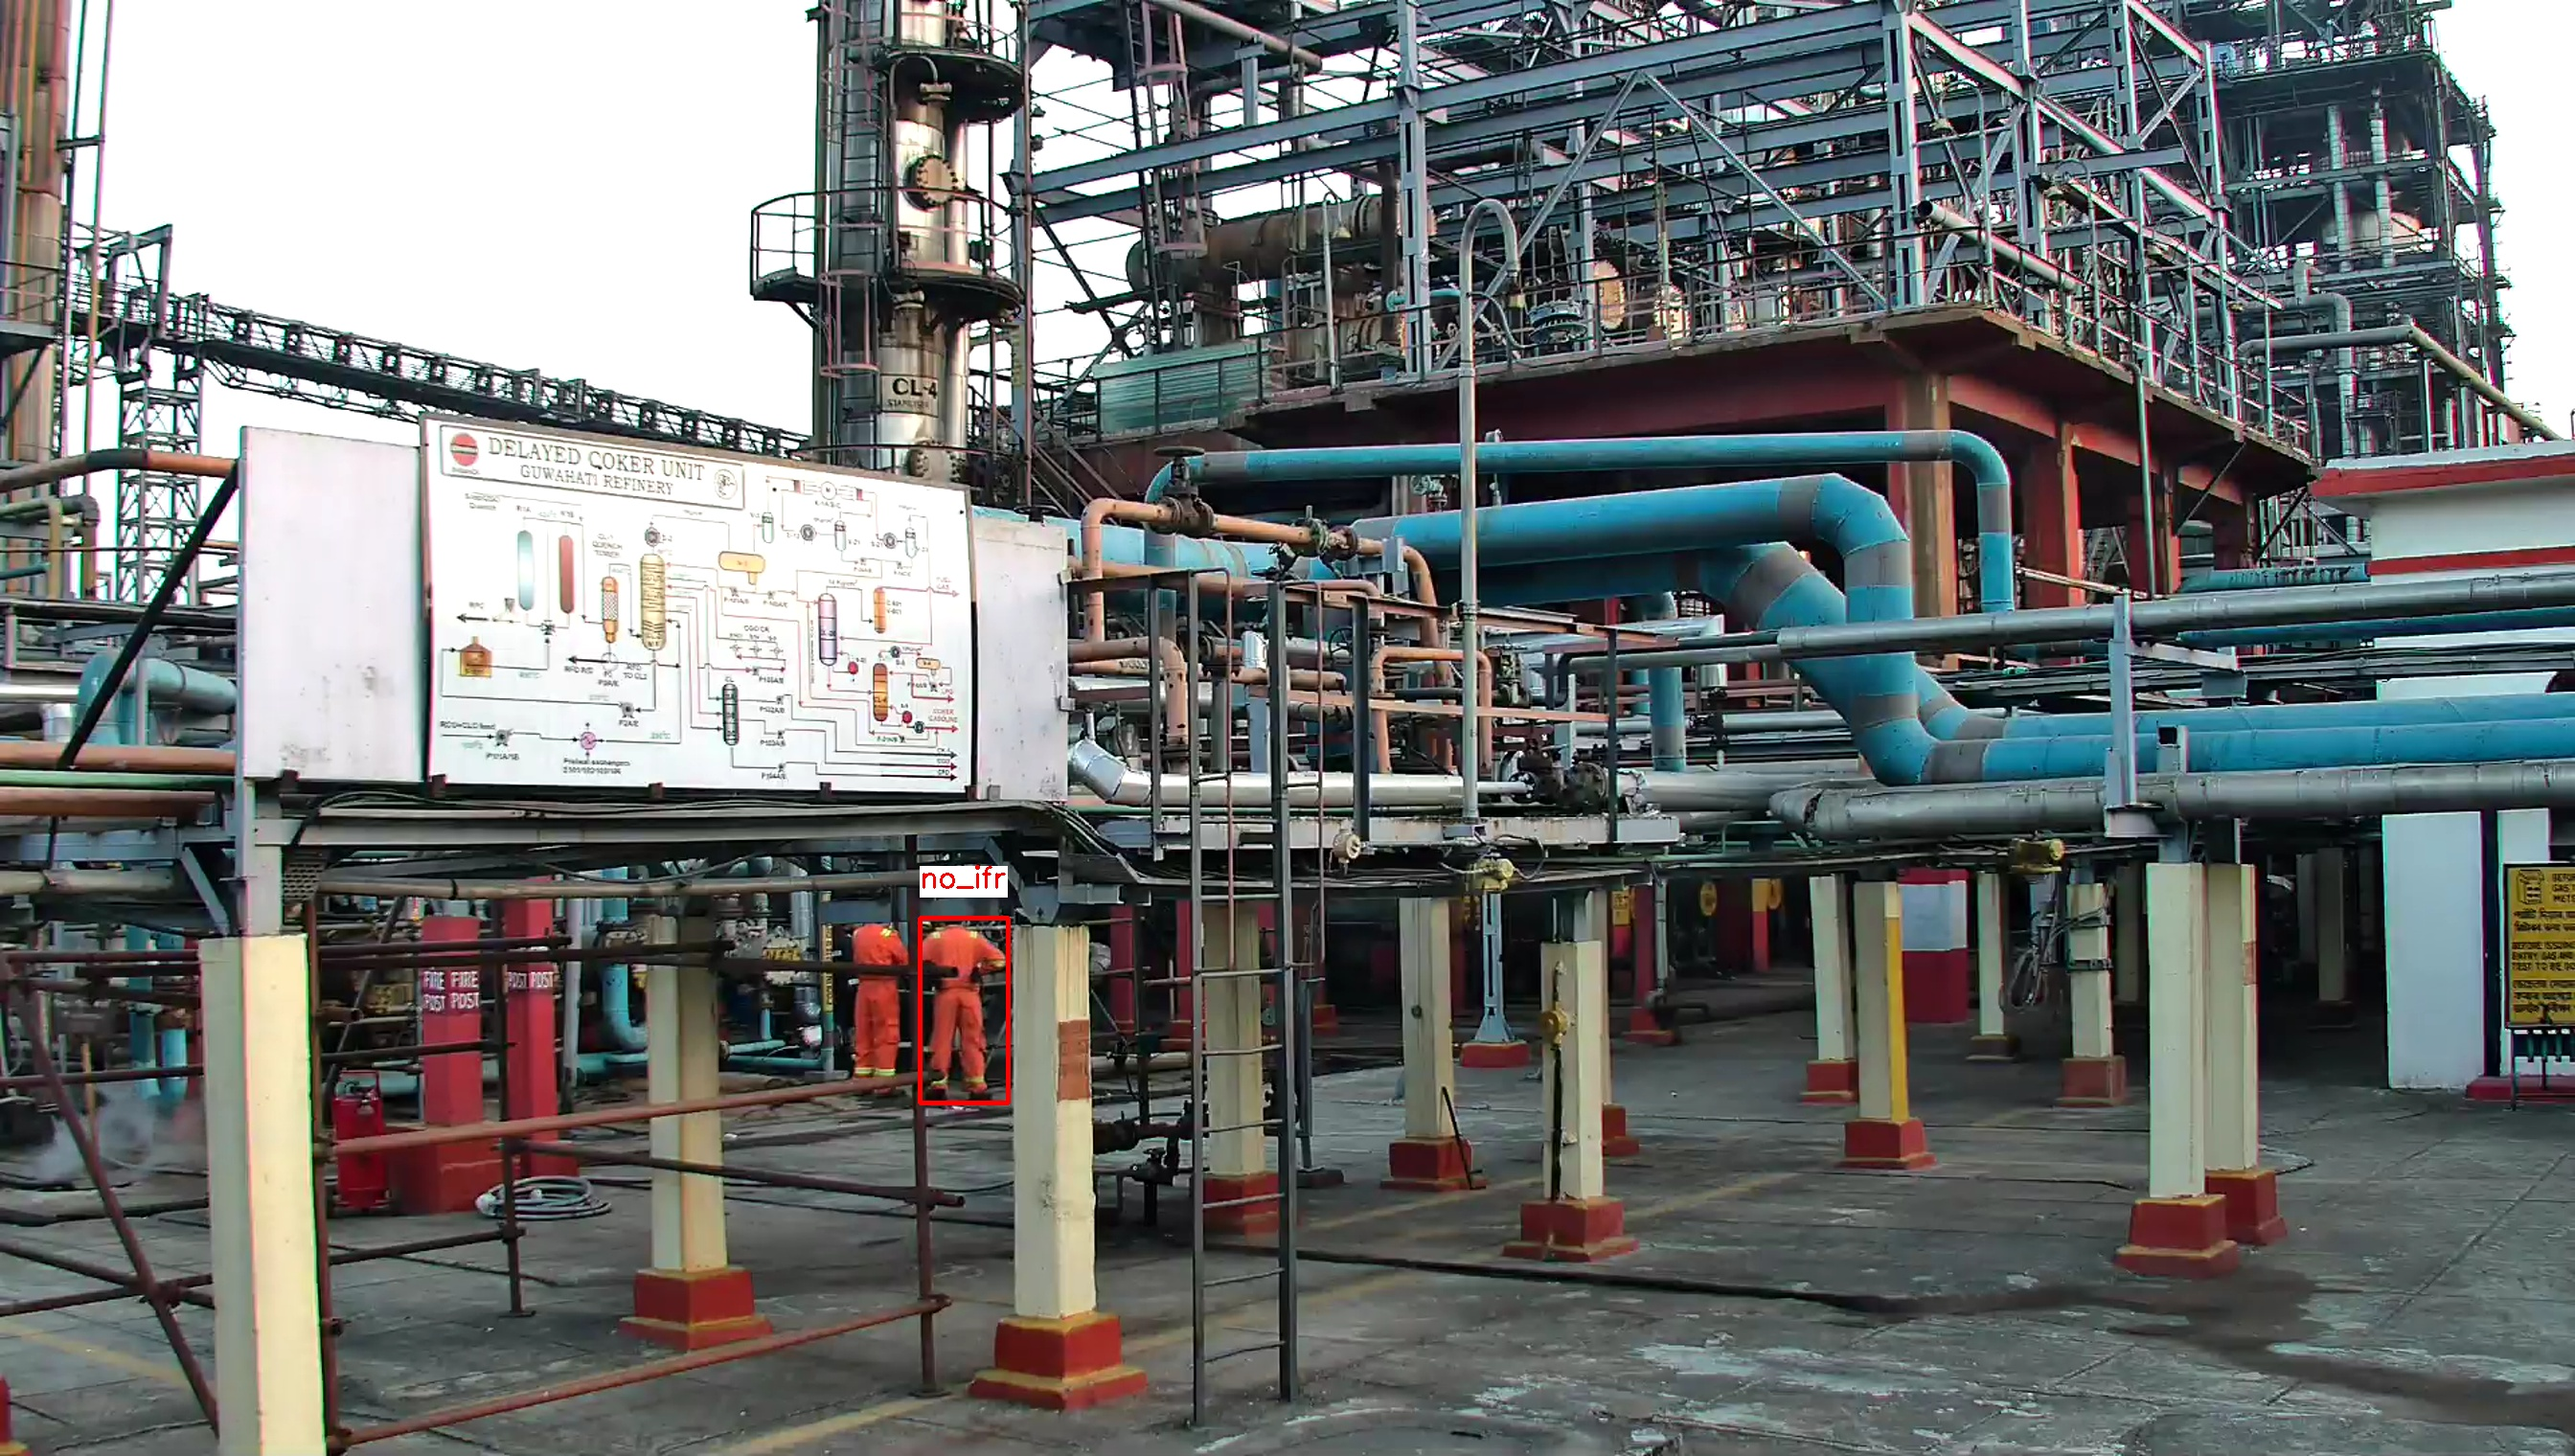IFR_Suit: (927, 923, 996, 1097), (849, 927, 905, 1083)
